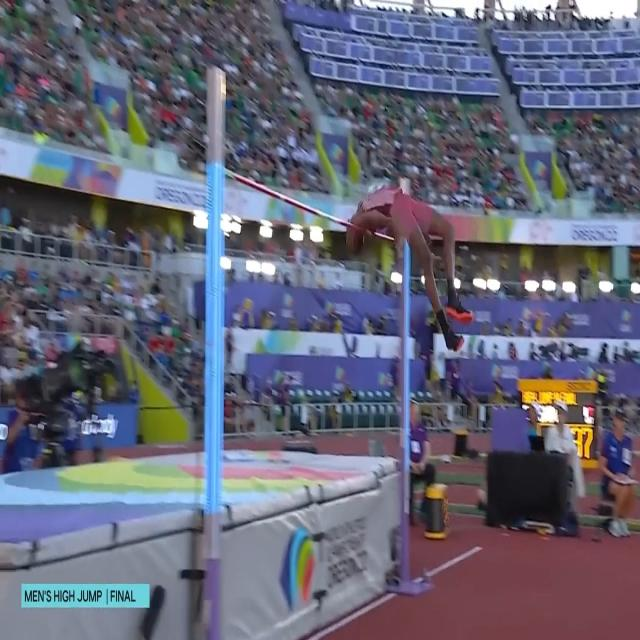jump: (344, 183, 475, 356)
